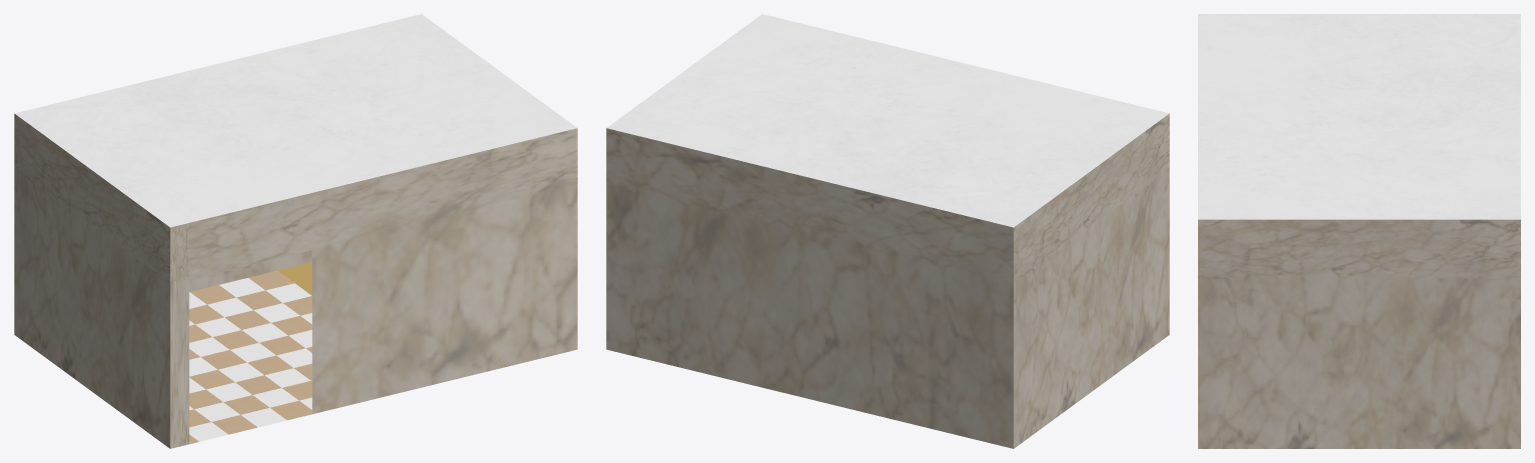
The model's file is Toilet.fbx.
3 views of the same model, side by side, from view 1: azimuth 30°, elevation 25°; view 2: azimuth 150°, elevation 25°; view 3: azimuth 270°, elevation 25° (orthographic). The views are drawn at different scales.
Visible parts, largest first — view 1: pCube47; view 2: pCube47; view 3: pCube47.
Part boxes in pixels (x1,y1,x2,y2): pCube47: [14, 14, 577, 448]; pCube47: [606, 14, 1169, 448]; pCube47: [1198, 14, 1520, 448].
Size of the model in its own units: 5.38 by 2.79 by 3.57.
